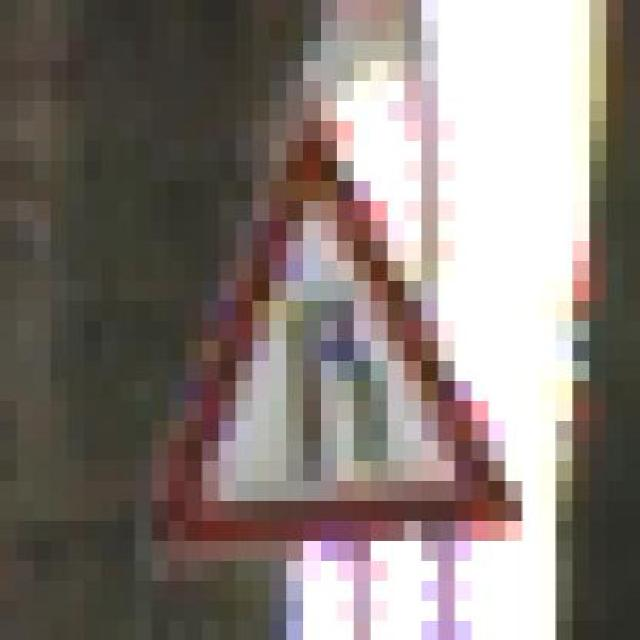-Road narrows on right: (128, 120, 532, 540)
